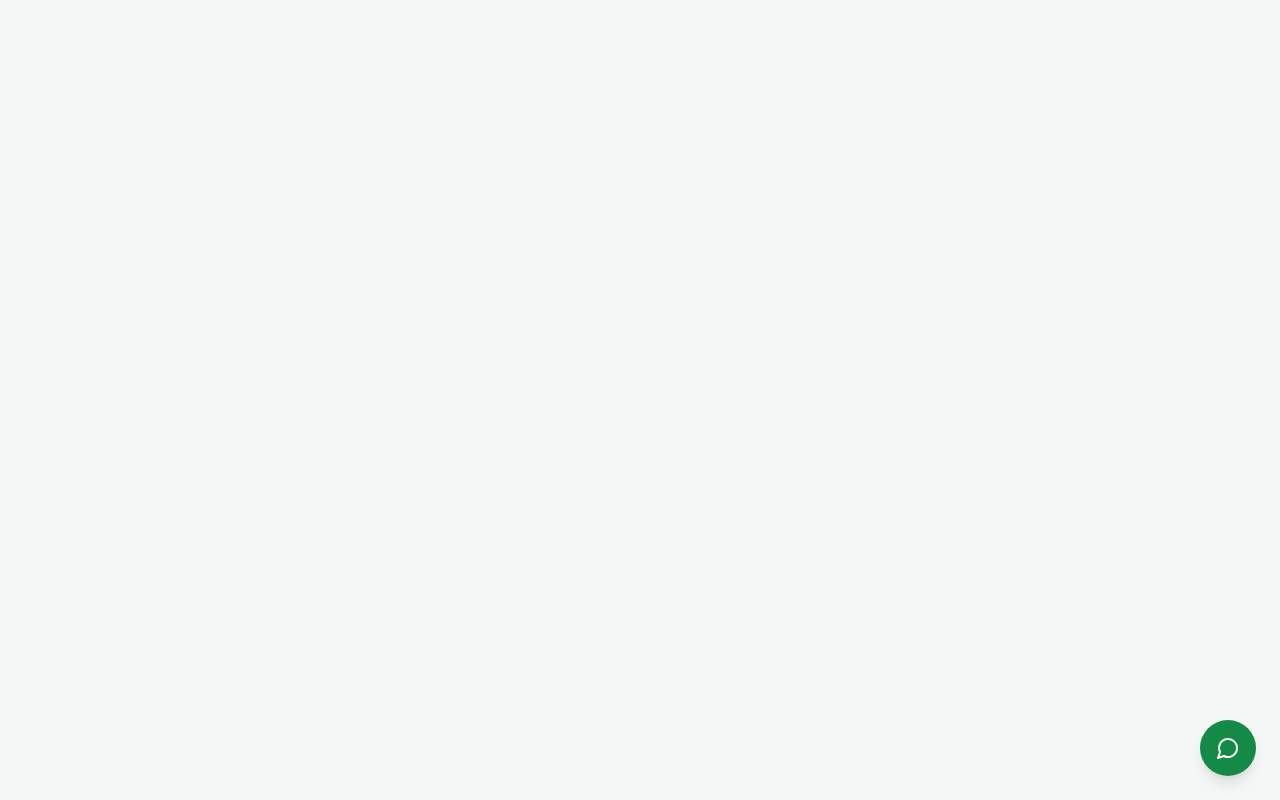
Test case: Recipe chat › says plainly when the assistant took too long, and Try again sends the same question
This screenshot has width=1280, height=800.
Click the button named "Open recipe chat". click: point(1228, 748)
box: [1200,720,1256,776]
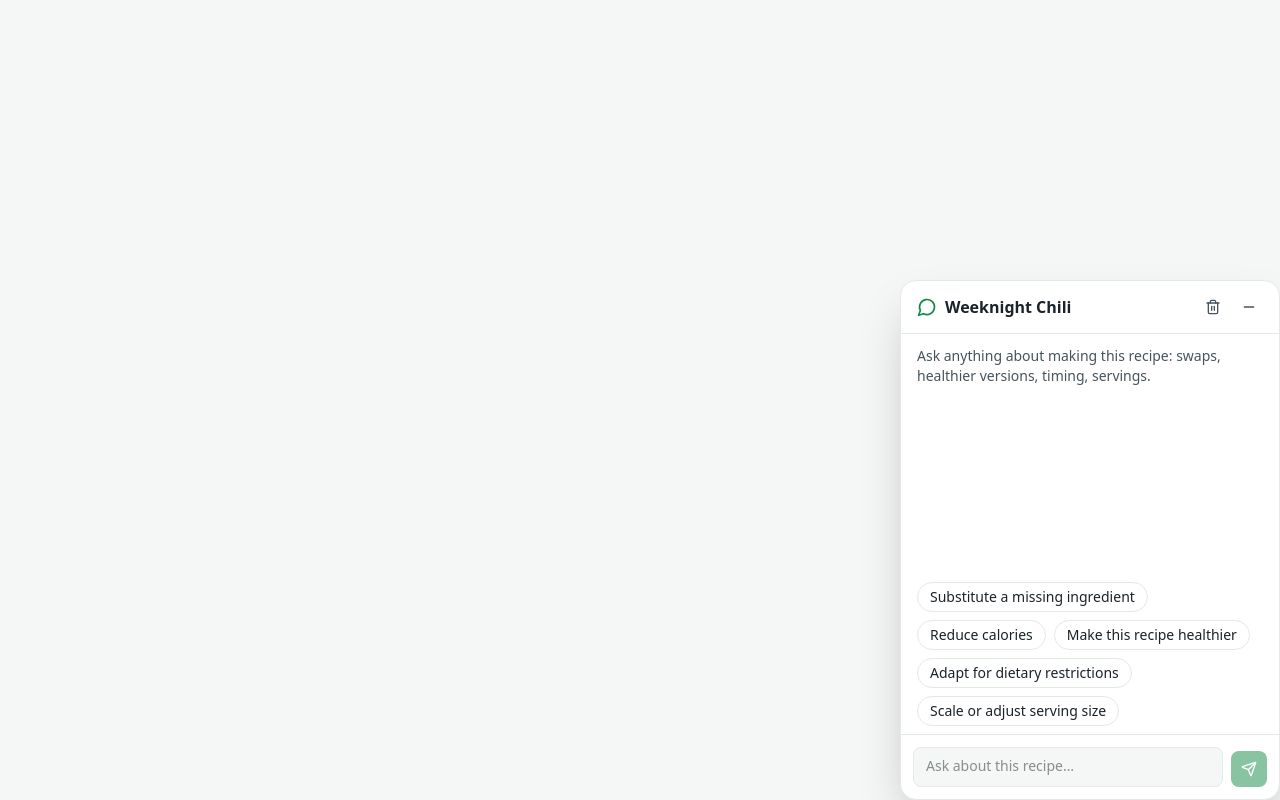
Type "Out of beef?" into the text box named "Message". click: point(1068, 767)
box: [913,747,1223,787]
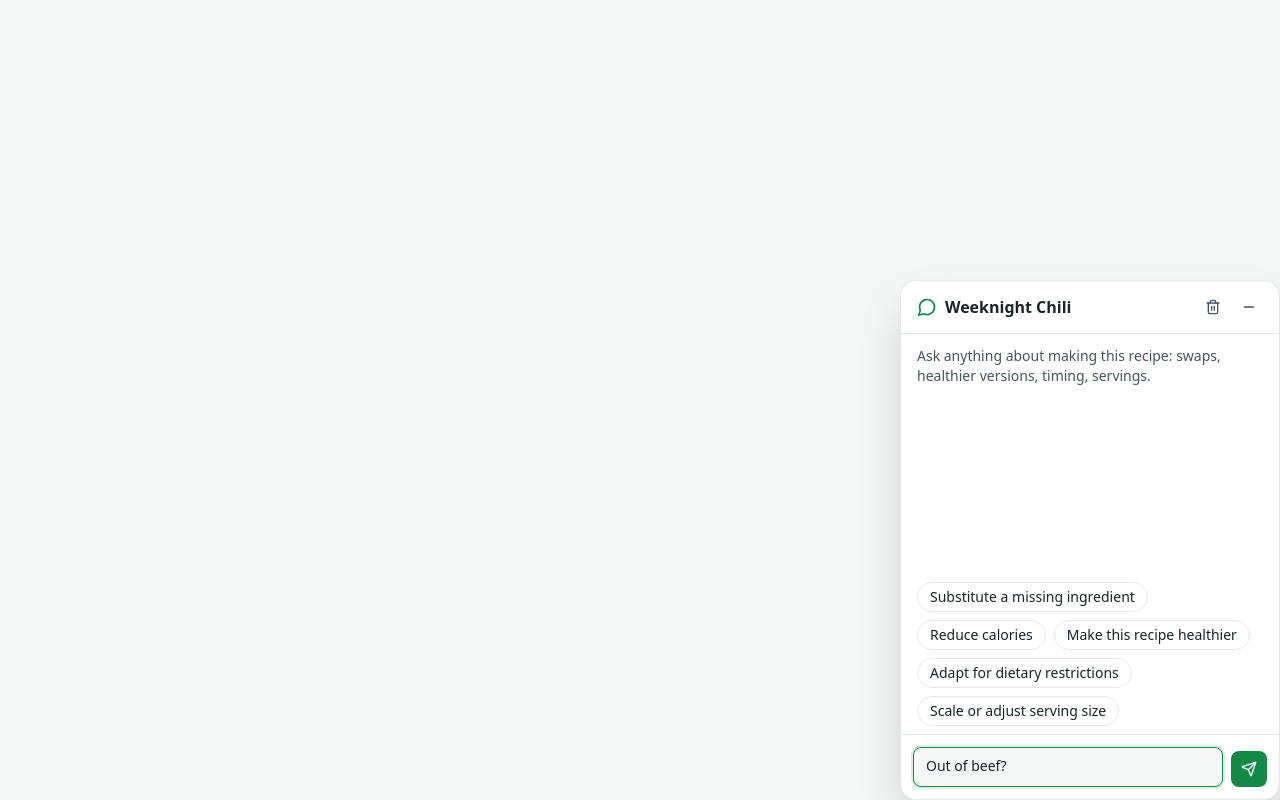
Click the button named "Send". click: point(1249, 769)
box: [1231,751,1267,787]
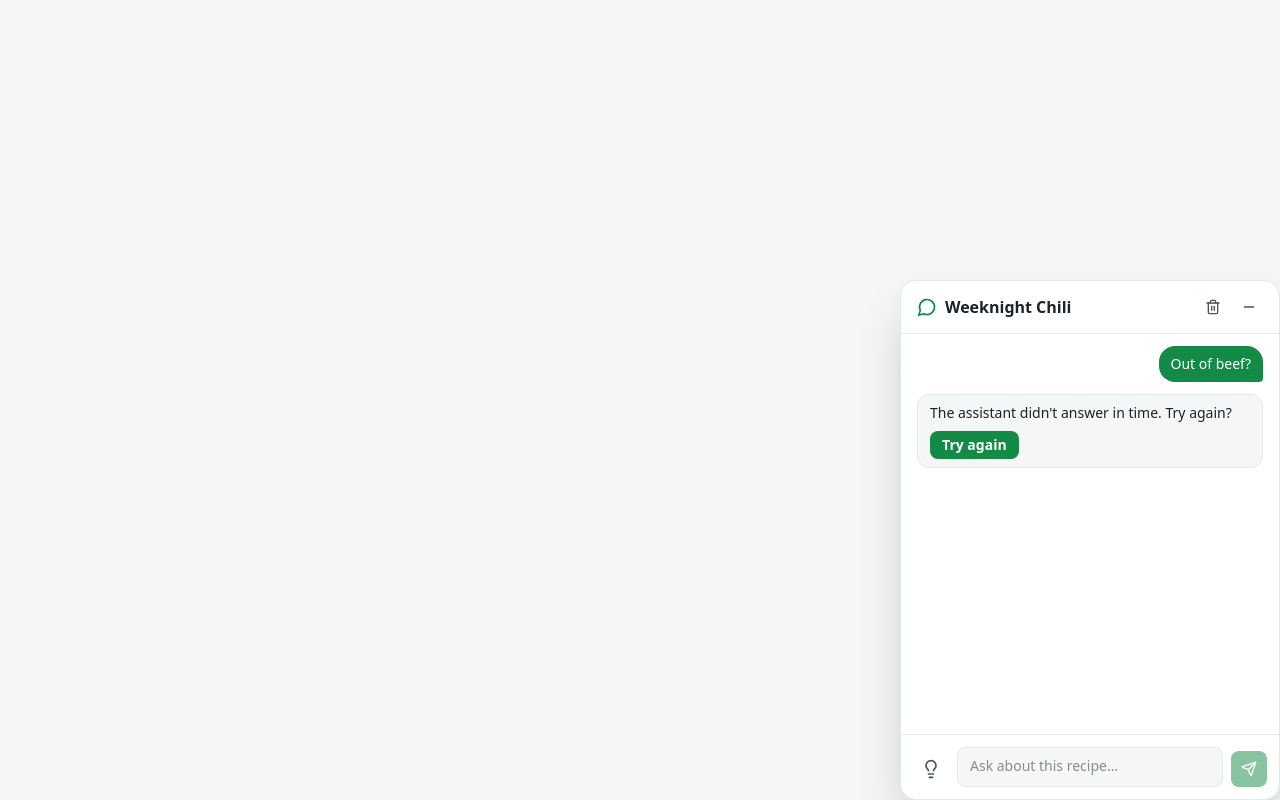
Check: the text "The assistant didn't answer in time. Try again?" is shown, box [930,403,1250,423]
Click the button "Try again". click: point(974, 445)
box: [930,431,1019,459]
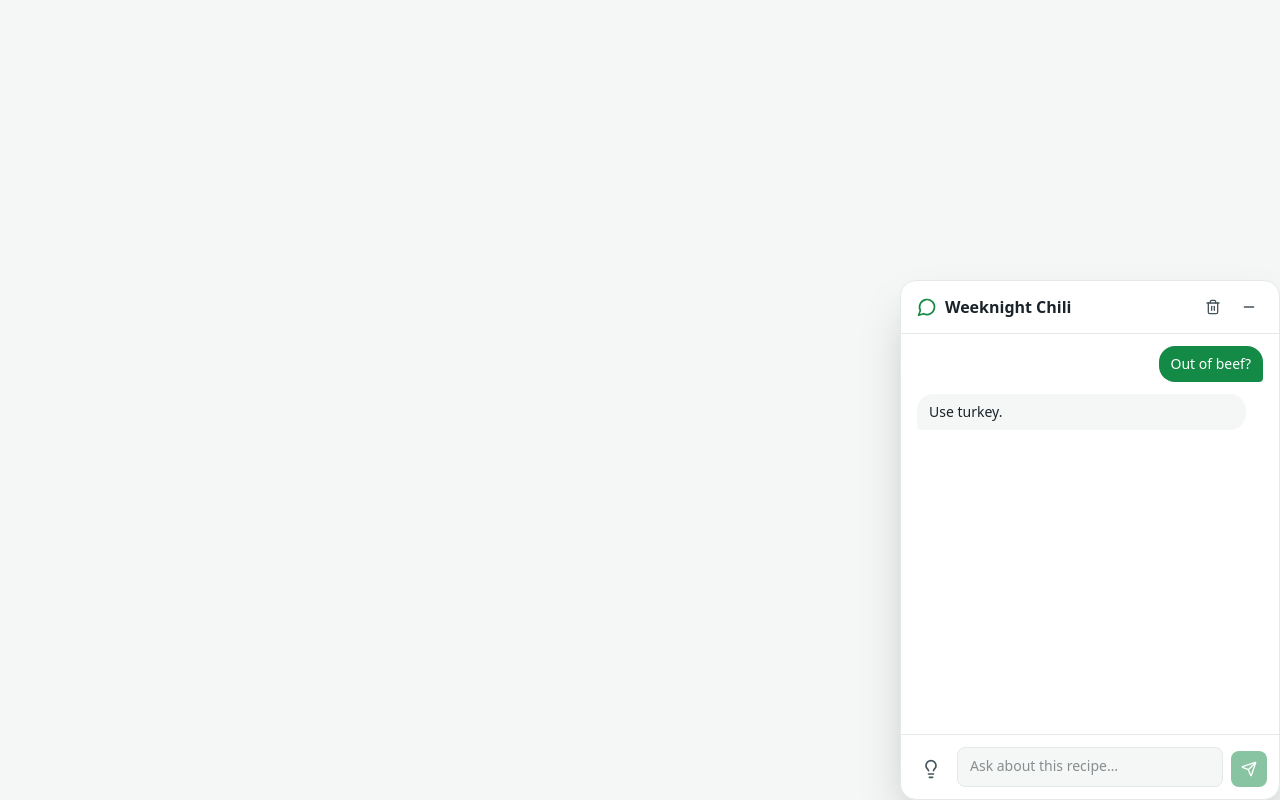
Check: the text "Out of beef?" is shown once, box [1158,346,1263,382]
Check: the text "Use turkey." is shown, box [929,402,1002,421]
